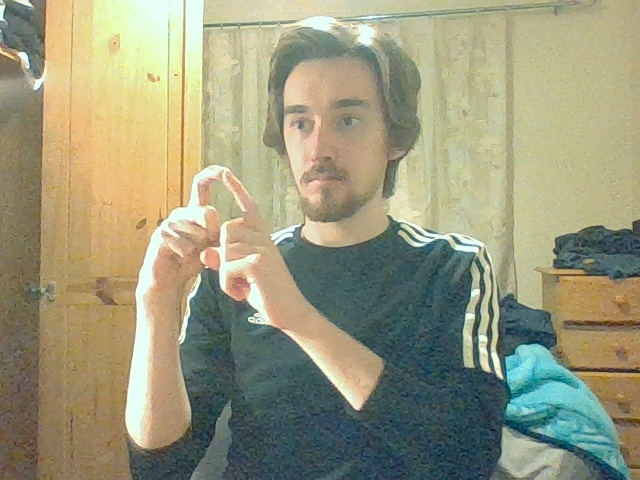daughter: (170, 165, 267, 280)
